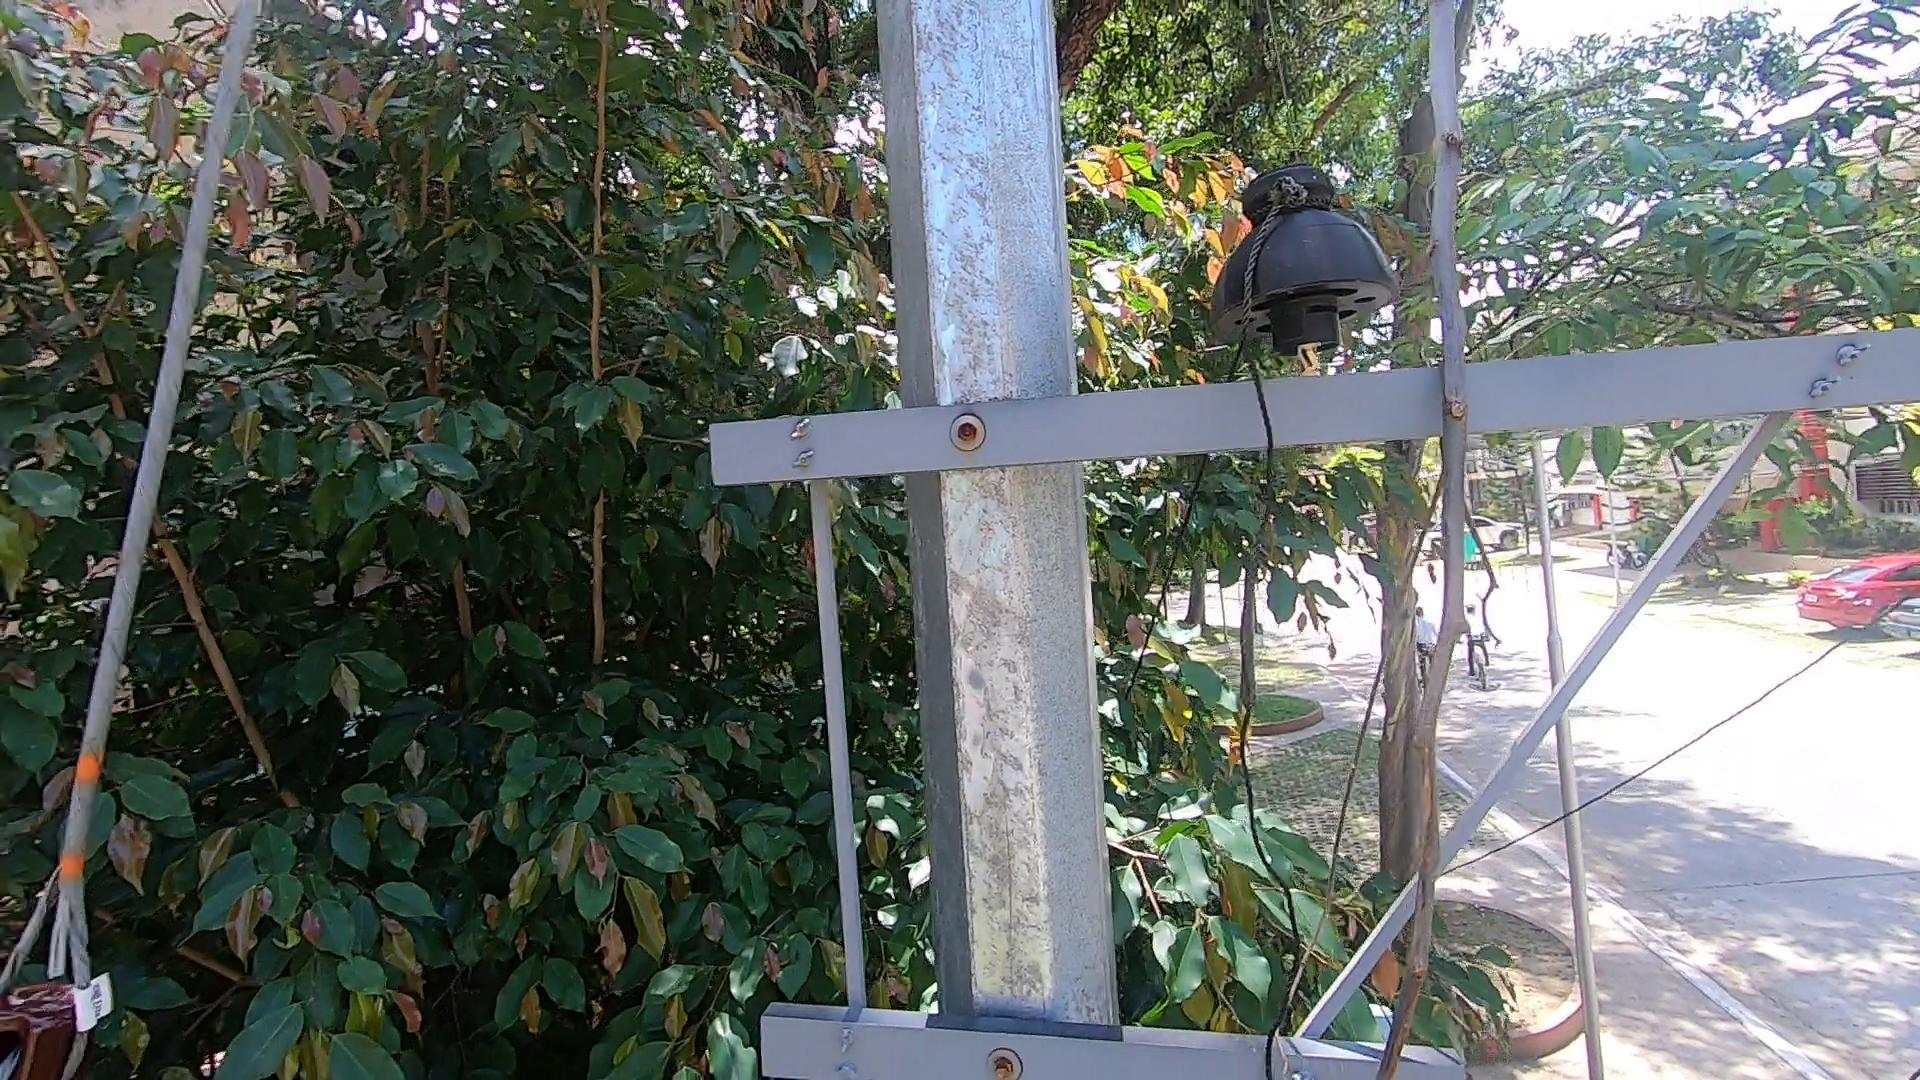branch with leaves: (1284, 909, 1513, 1046)
tree branch: (1371, 1, 1466, 1080)
